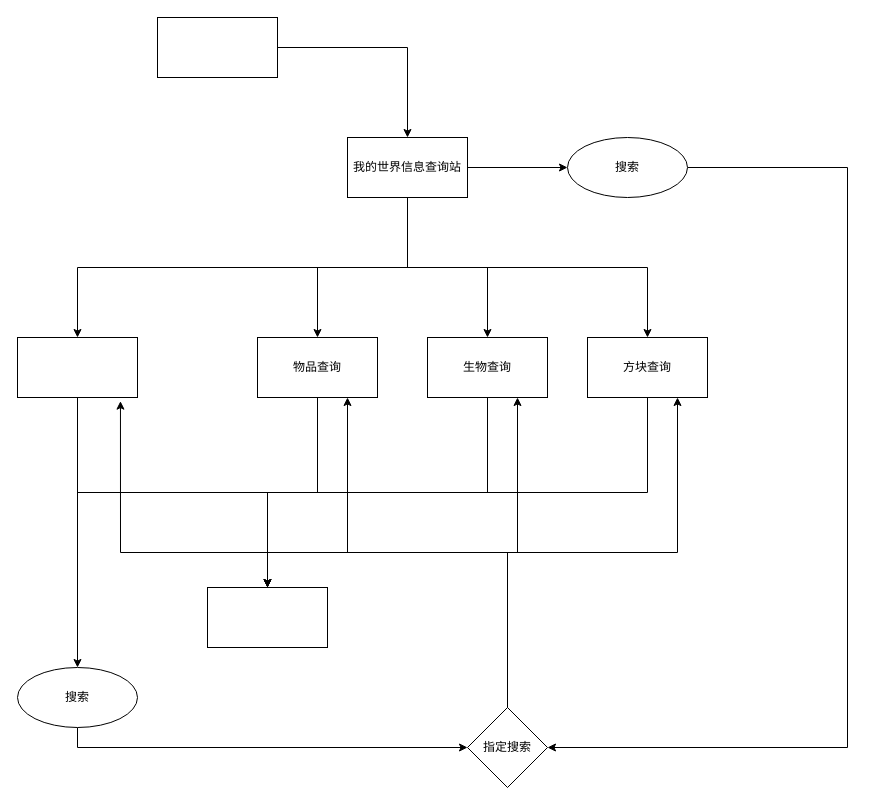
The diagram is 873 pixels wide and 805 high, and some of its shapes have lost their labels. The box of each missing label's shape, as (x1, y1, x2, y2) in pixels:
光环助手: (156, 16, 278, 78)
常用推荐: (206, 586, 328, 648)
指令查询: (16, 336, 138, 398)
